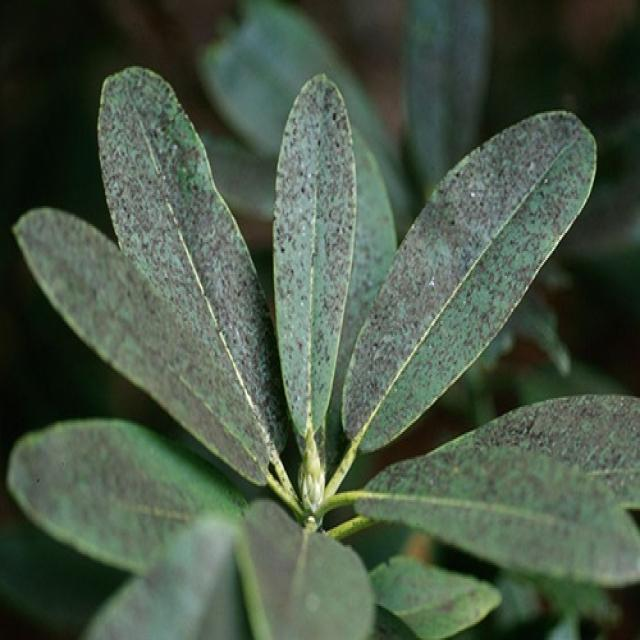Sooty Mold: (5, 61, 636, 636)
